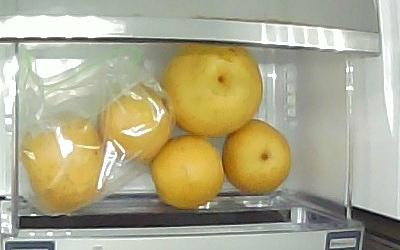pear: (163, 42, 263, 139), (148, 134, 225, 211), (224, 120, 292, 197)
pear_vinyl: (23, 114, 109, 215), (98, 86, 173, 165)
